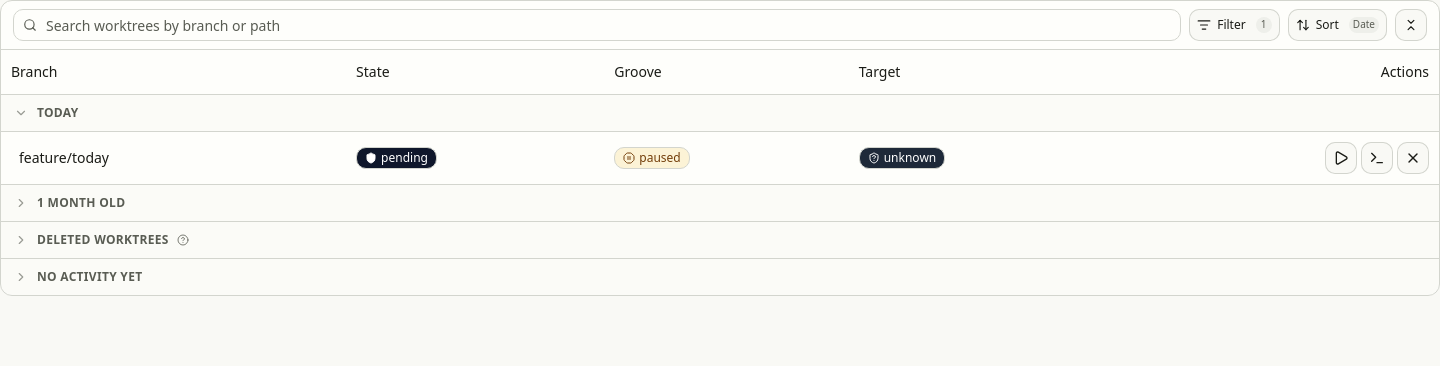
Scenario: WorktreesTable › auto-collapses requested groups by default
Expected: the text "feature/today" is shown, [19,148,109,166]
Expected: the text "feature/month-old" is not shown
Click the button named "Expand 1 month old section" at (21, 202), box [11,192,31,212]
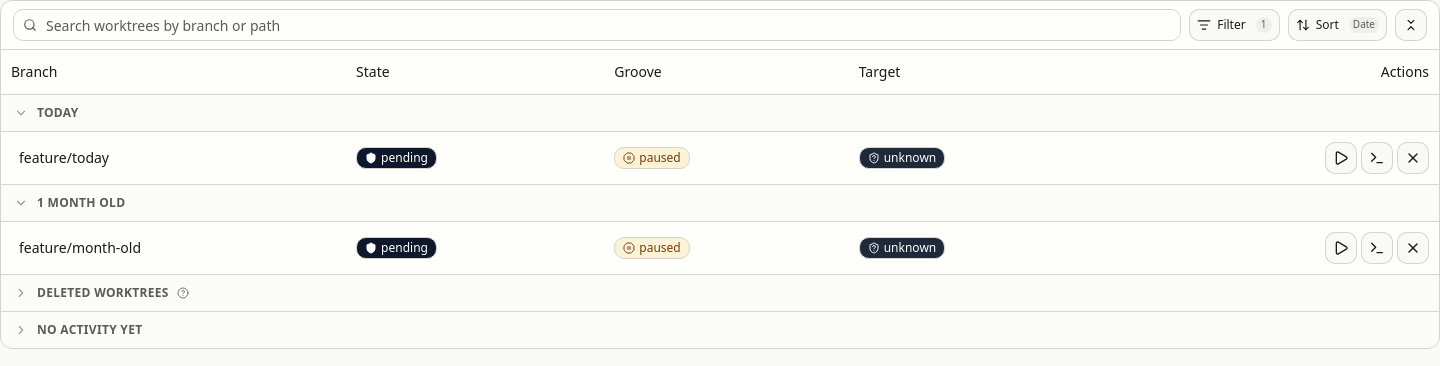
Result: the text "feature/month-old" is shown at [19,238,141,256]
Result: the button named "Collapse 1 month old section" is expanded at [11,192,31,212]
